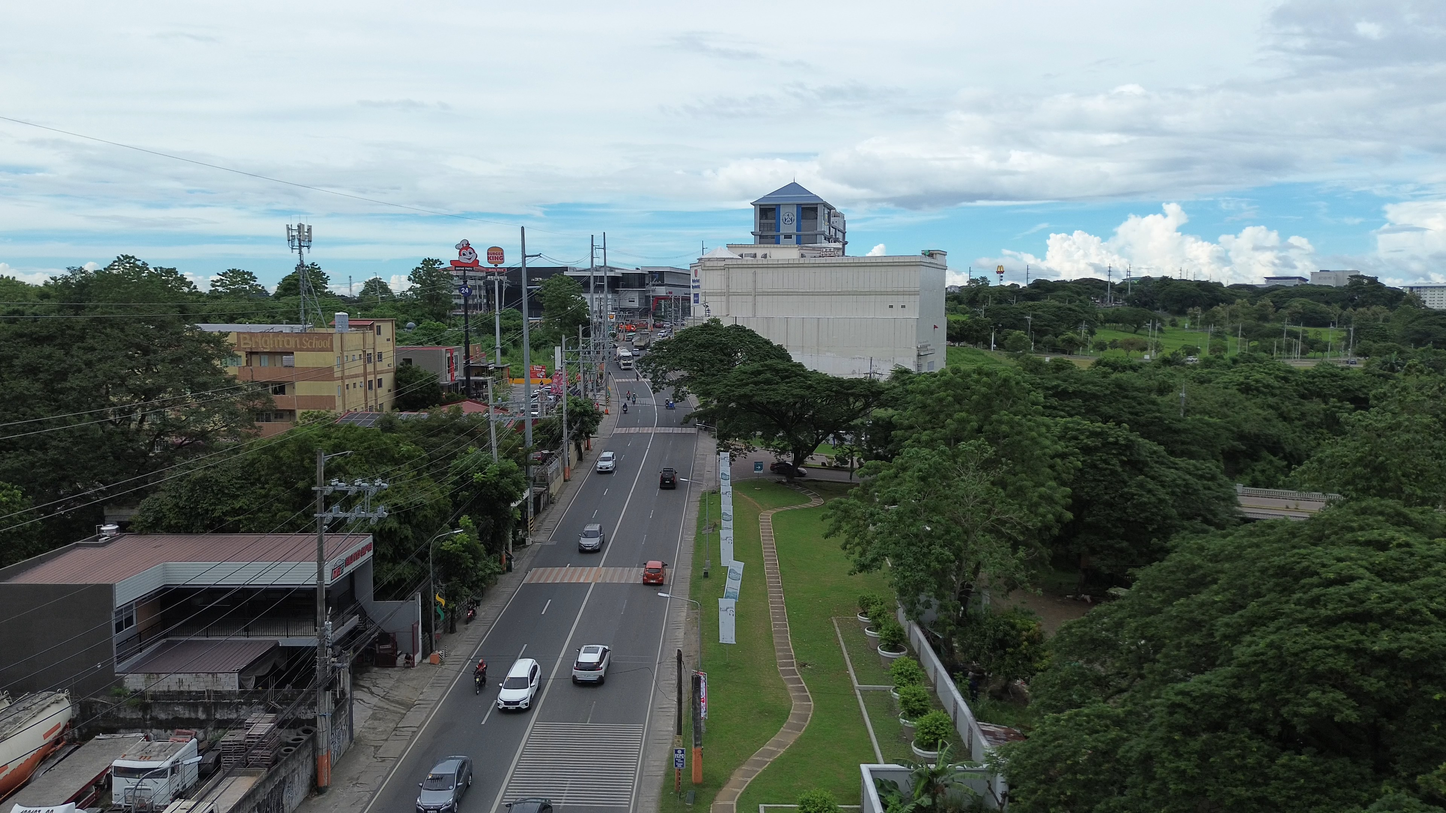car: (416, 755, 472, 813), (496, 658, 540, 710), (572, 644, 610, 684), (578, 524, 605, 552), (505, 798, 552, 813), (642, 560, 667, 585), (771, 461, 806, 477), (595, 451, 616, 472)
motorcycle: (464, 603, 476, 624), (474, 672, 485, 694), (665, 400, 674, 410), (622, 402, 628, 413)
truck: (616, 347, 633, 369)
vehicle: (0, 692, 73, 798), (113, 738, 200, 810), (659, 467, 677, 489), (665, 399, 675, 410)
